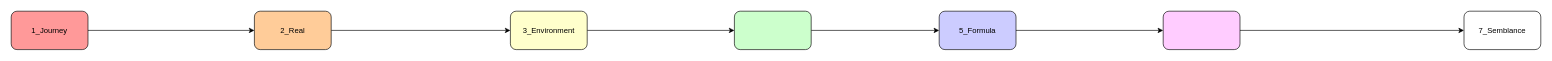
The diagram is 1552 pixels wide and 61 high, and some of its shapes have lost their labels. The centre of each missing label's shape, as x and y in pixels:
4_UI: the point at 772,30
6_Symbols: the point at 1201,30
